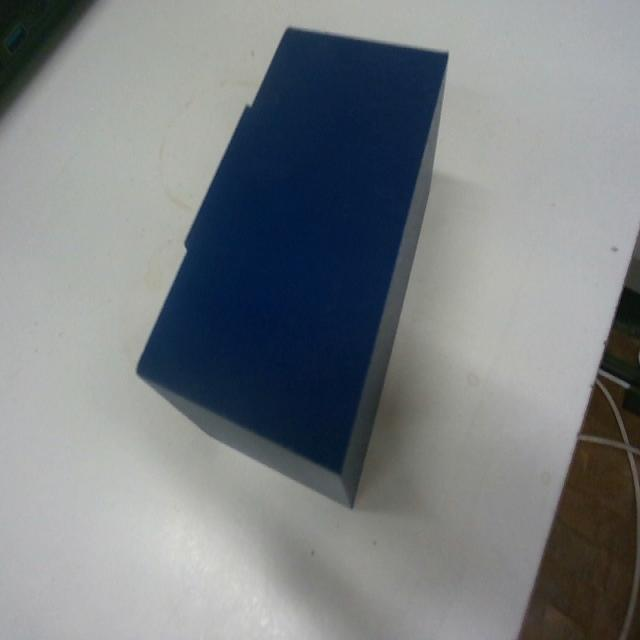Blue Cuboid: (134, 23, 450, 508)
